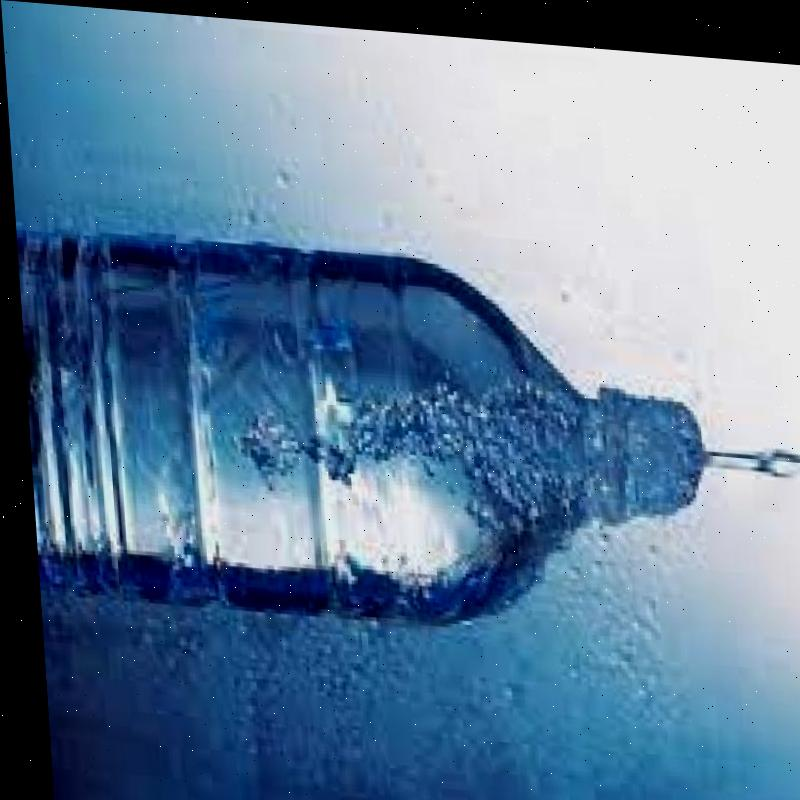botella: (12, 222, 704, 638)
